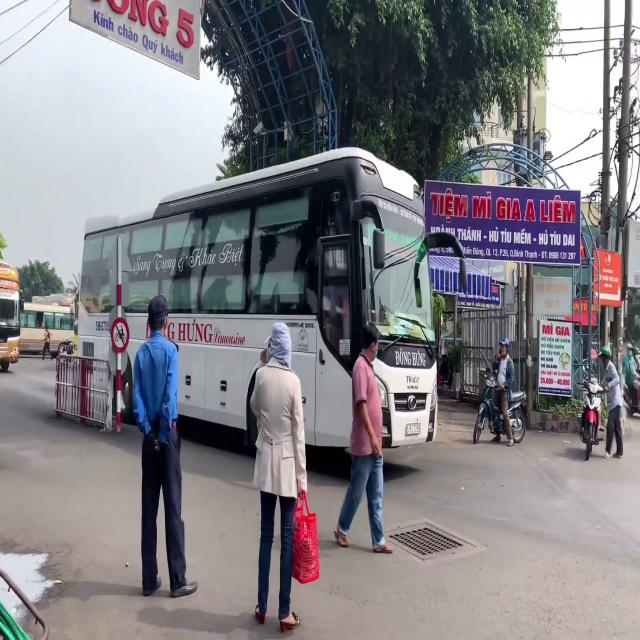bien_trang: (405, 424, 421, 435)
